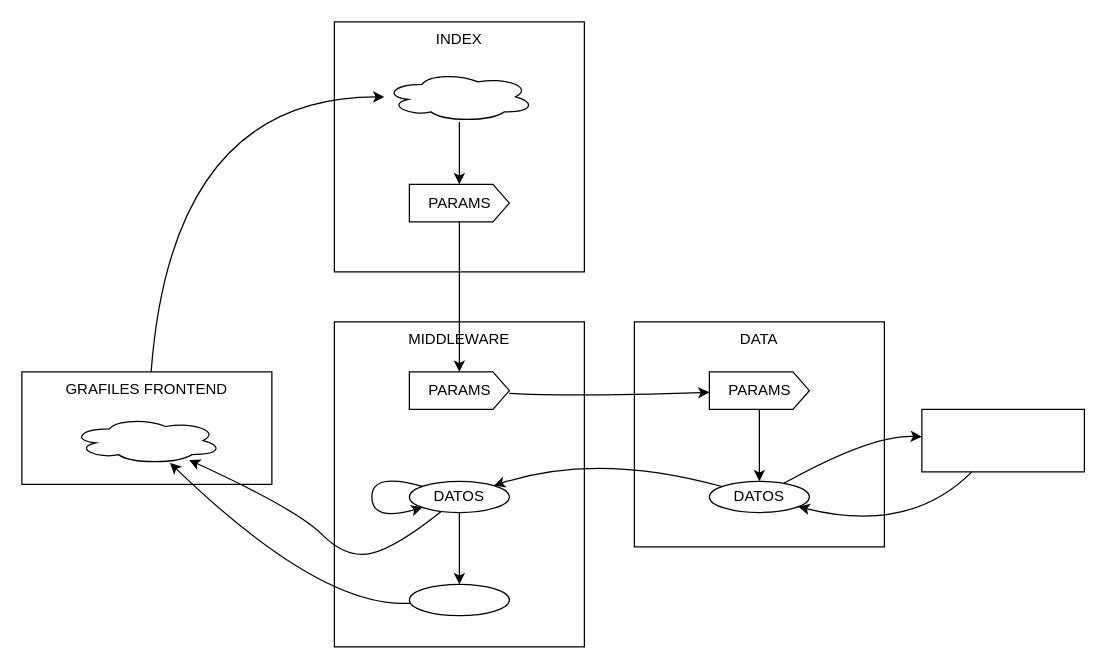
Some shapes in this 1106 by 669 pixel diagram are drawn without their labels. The shapes that lost their labels are listed below. From the top down, each one's centre as x and y in pixels, then its label:
At (x=458, y=96): "REQUEST".
At (x=146, y=440): "JSON".
At (x=1002, y=440): "MONGODB".
At (x=458, y=599): "ERROR".
